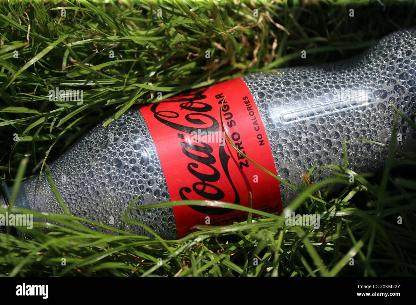Plastic Bottle: (6, 22, 412, 244)
